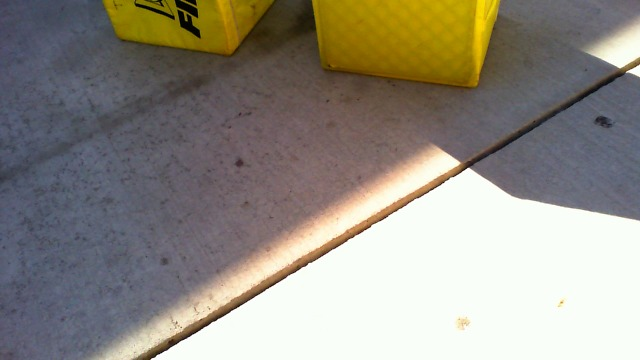cube: (312, 1, 499, 89), (97, 1, 283, 61)
